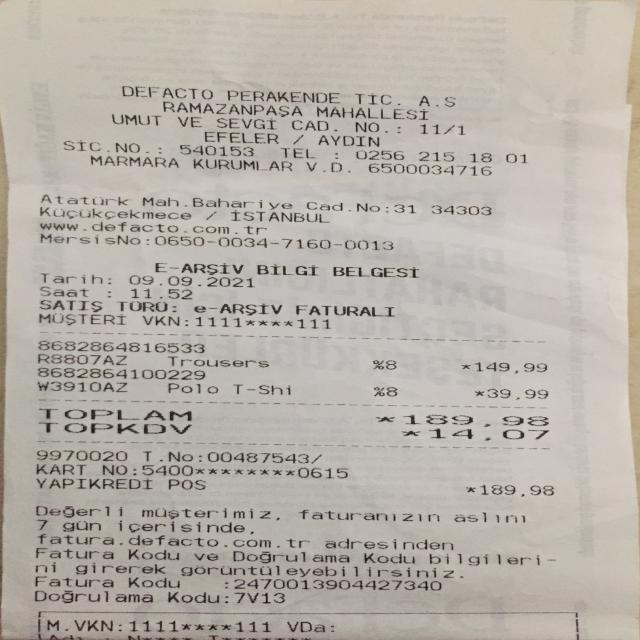text: (155, 232, 392, 252), (180, 564, 454, 581), (39, 219, 266, 236), (234, 575, 440, 593), (37, 536, 312, 548), (38, 338, 204, 354), (162, 99, 301, 118), (300, 505, 442, 523), (40, 205, 190, 222), (39, 406, 191, 422), (118, 517, 243, 536), (409, 411, 547, 428), (37, 366, 204, 380), (38, 420, 190, 435), (227, 86, 338, 106), (232, 547, 348, 566), (327, 535, 449, 553), (316, 104, 426, 122), (129, 273, 252, 289), (428, 550, 559, 565), (429, 426, 547, 442), (34, 588, 152, 604), (368, 163, 492, 178), (296, 301, 393, 320), (142, 506, 272, 520), (192, 194, 292, 212), (40, 230, 140, 248), (193, 155, 291, 173), (36, 476, 151, 491), (208, 449, 309, 466), (121, 82, 211, 101), (76, 560, 165, 578), (38, 350, 126, 368), (35, 502, 122, 520), (37, 378, 126, 395), (333, 262, 417, 280), (90, 153, 178, 170), (230, 209, 328, 224), (41, 190, 126, 207), (168, 354, 268, 368), (36, 544, 112, 562), (39, 311, 124, 327), (37, 448, 126, 463), (34, 573, 112, 590), (63, 138, 135, 156), (479, 482, 552, 498), (180, 144, 254, 159), (39, 296, 100, 314), (218, 114, 278, 132), (182, 259, 242, 277), (220, 300, 280, 318), (256, 261, 316, 278), (453, 512, 529, 525), (43, 618, 113, 632), (318, 132, 378, 148), (431, 201, 490, 217), (474, 361, 546, 374), (40, 271, 101, 286), (204, 132, 280, 144), (130, 286, 190, 301), (364, 549, 414, 567), (128, 546, 178, 563), (126, 574, 178, 590), (112, 110, 158, 128), (168, 380, 216, 397), (166, 589, 217, 605), (36, 460, 85, 476), (356, 146, 402, 163), (486, 386, 546, 399), (142, 462, 192, 477), (420, 120, 466, 136), (298, 464, 346, 479), (40, 284, 86, 299), (305, 158, 348, 174), (195, 314, 240, 329), (354, 89, 390, 107), (63, 516, 100, 533), (128, 619, 176, 632), (235, 592, 287, 604), (420, 91, 453, 109), (418, 148, 452, 164), (142, 313, 178, 328), (258, 381, 289, 398), (295, 116, 324, 134), (168, 477, 205, 491), (281, 144, 313, 160), (287, 620, 324, 633), (308, 198, 340, 213), (297, 316, 329, 331), (236, 619, 270, 633), (144, 194, 176, 208), (193, 547, 217, 564), (167, 449, 192, 464), (356, 118, 378, 135), (177, 114, 200, 130), (468, 149, 489, 166), (356, 199, 379, 214), (396, 200, 419, 215), (102, 462, 126, 476), (505, 150, 528, 164), (146, 448, 166, 464), (35, 560, 54, 576), (401, 426, 419, 440), (376, 411, 386, 427), (36, 518, 46, 533), (155, 259, 163, 276), (372, 358, 383, 370), (233, 381, 241, 397), (206, 208, 215, 222), (465, 482, 474, 496), (373, 386, 384, 397), (334, 117, 341, 134), (248, 381, 255, 398), (223, 590, 231, 604), (386, 386, 396, 397), (474, 386, 482, 399), (171, 259, 177, 276), (386, 359, 395, 370), (198, 450, 205, 464), (315, 451, 322, 465), (114, 618, 121, 632), (294, 131, 300, 147), (212, 300, 218, 316), (461, 361, 469, 373), (182, 194, 188, 208), (347, 199, 353, 213), (385, 200, 390, 214), (146, 232, 150, 247), (132, 462, 134, 476), (108, 273, 110, 286), (251, 519, 252, 536), (186, 314, 187, 328), (108, 286, 109, 299)
